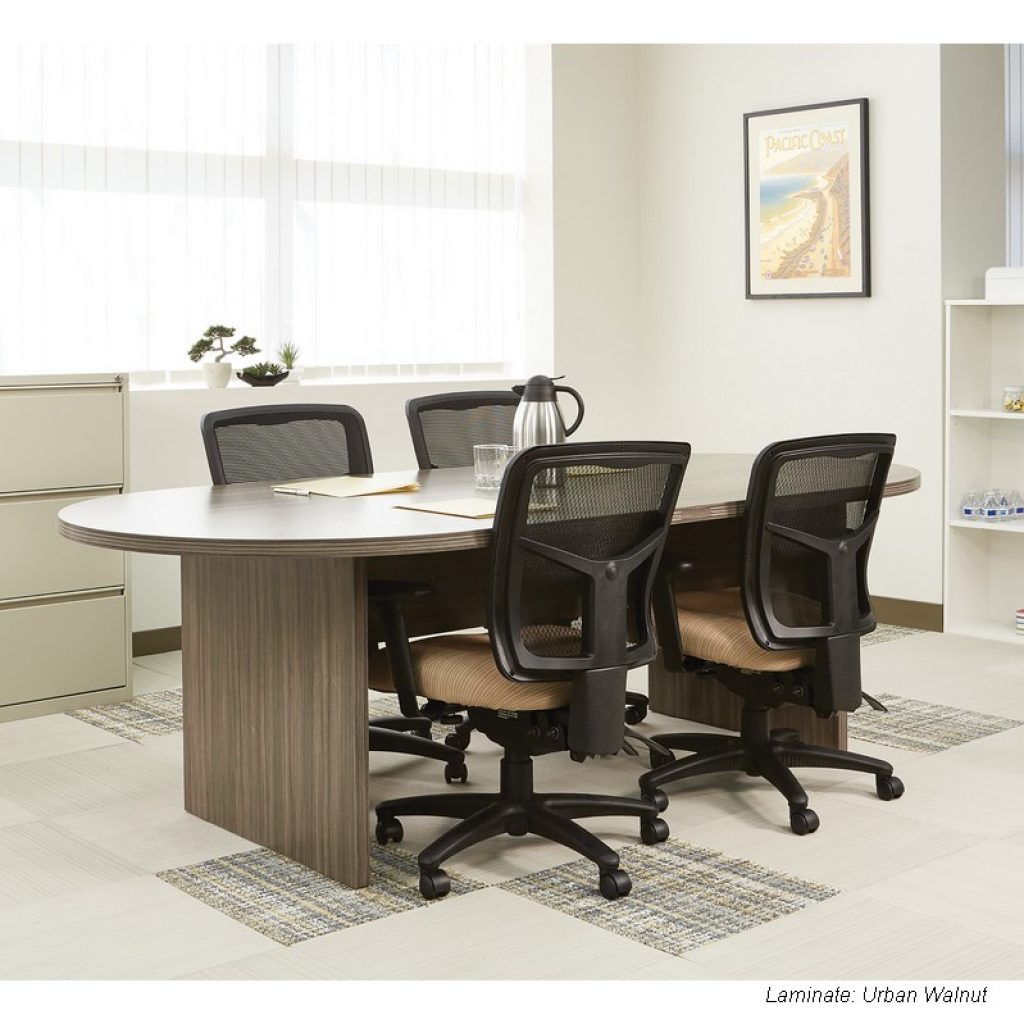conference_table: (58, 451, 921, 889)
